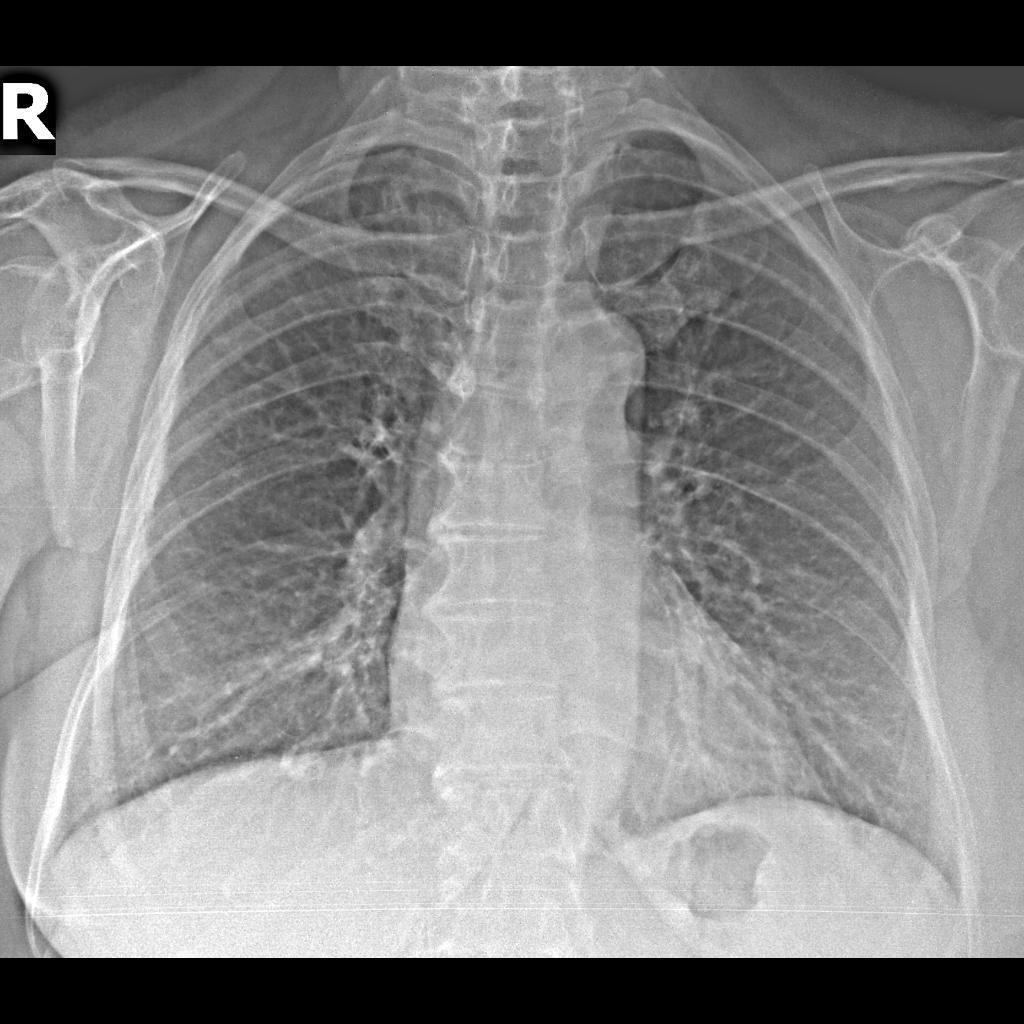Nodule: (264, 731, 317, 794)
